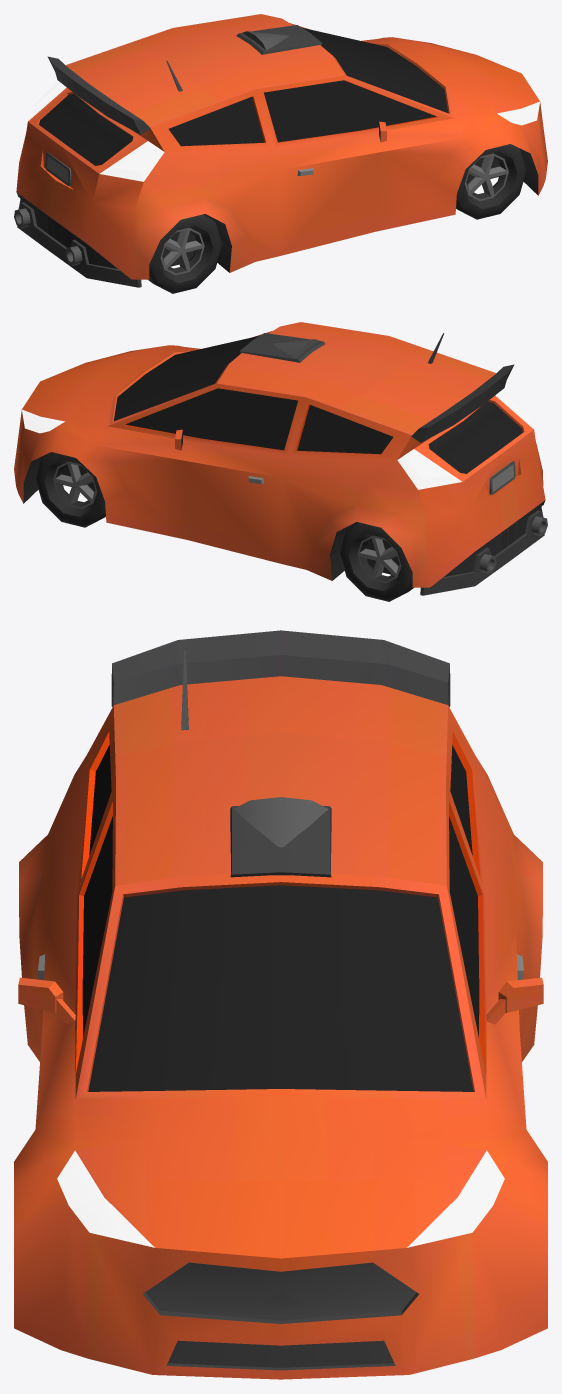
File: rally.glb
3 renders of one model, top to bottom at view 1: azimuth 30°, elevation 25°; view 2: azimuth 150°, elevation 25°; view 3: azimuth 270°, elevation 25°, orthographic. The views are drawn at different scales.
Visible parts, largest first — view 1: rally; view 2: rally; view 3: rally.
Part boxes in pixels (<box>): rally: <box>14,14,547,293</box>; rally: <box>14,322,547,601</box>; rally: <box>14,630,547,1379</box>.
Bounding box in the file's own units: 4.02 × 1.62 × 1.97.
Materials: 4 (3 with a texture image).
